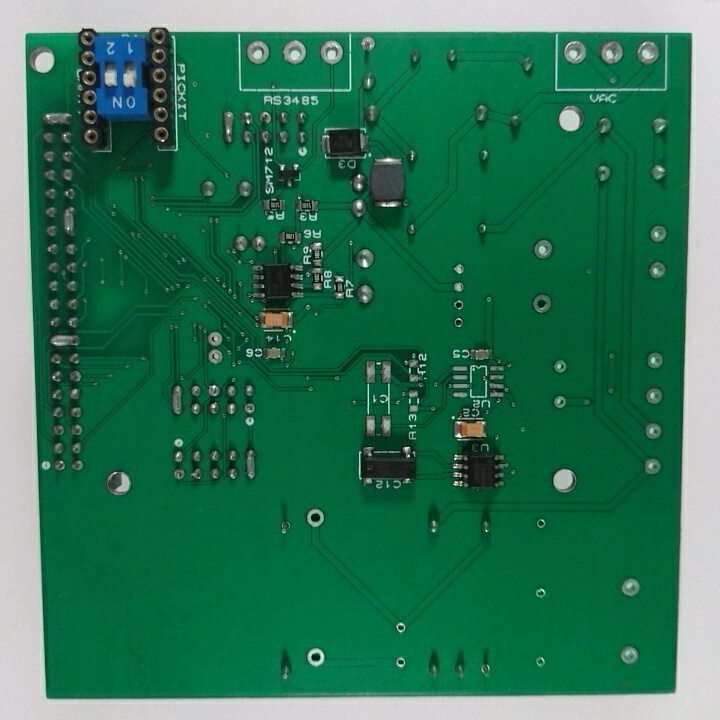F: (597, 38, 625, 68), (561, 38, 589, 66), (244, 39, 271, 67), (281, 39, 308, 66), (318, 39, 344, 66), (635, 39, 661, 66), (617, 643, 642, 667), (531, 291, 554, 316), (532, 237, 555, 261), (304, 645, 326, 669), (304, 506, 326, 529), (642, 455, 665, 477), (620, 574, 641, 598), (644, 348, 665, 371), (644, 385, 665, 408), (648, 223, 669, 245), (647, 260, 668, 281), (643, 420, 663, 442), (206, 349, 227, 366), (205, 329, 223, 348), (551, 357, 568, 376), (479, 660, 494, 680), (360, 36, 377, 53), (256, 110, 273, 126), (551, 394, 567, 410), (68, 369, 84, 385), (171, 466, 186, 483), (207, 384, 222, 401), (52, 457, 67, 473), (453, 262, 467, 276), (534, 586, 547, 601), (279, 520, 291, 536), (51, 424, 67, 436), (452, 280, 465, 294), (243, 401, 256, 415), (534, 655, 547, 669), (452, 298, 465, 311), (534, 517, 547, 530), (395, 621, 407, 635), (395, 656, 407, 669), (453, 315, 464, 329)
P: (169, 382, 185, 419), (220, 108, 236, 145), (41, 110, 75, 127), (60, 205, 78, 237), (244, 447, 259, 483), (48, 333, 81, 349)
